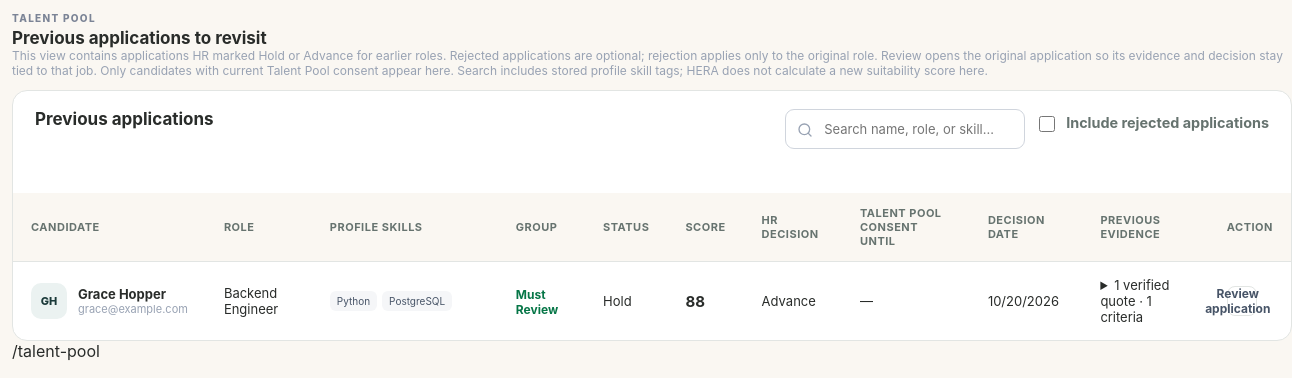
TalentPoolList (RankedCandidateList integration) › opens review from the action button too
Expected: the text "Grace Hopper" is shown, [78,286,166,302]
Click the button "Review application".
click(1242, 301)  # box [1227,286,1257,316]
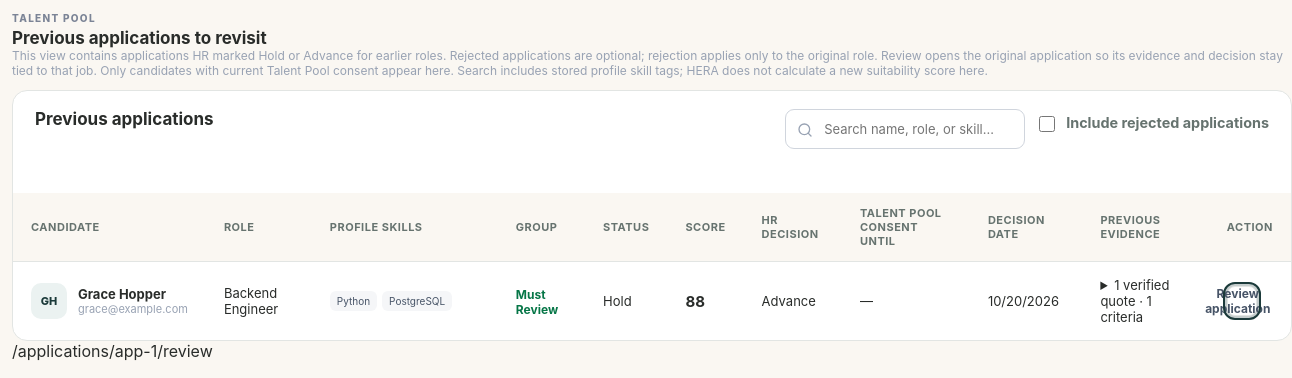
Expected: the text with test id "path" reads "/applications/app-1/review", [12,341,213,361]
